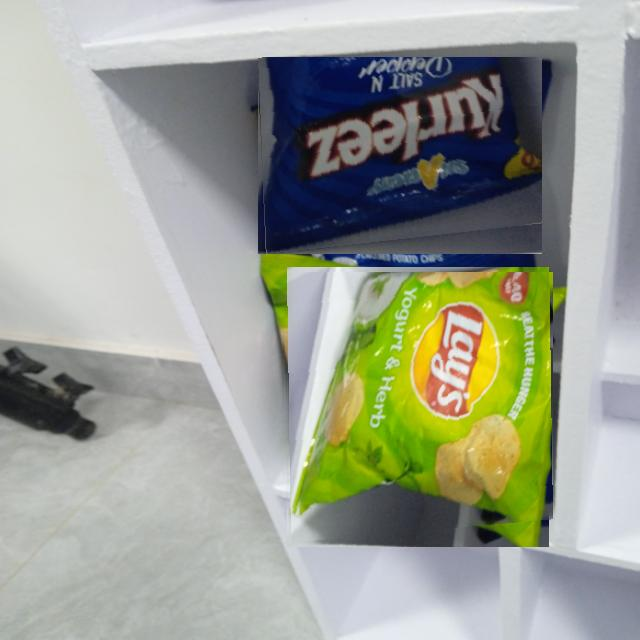Plastic: (282, 272, 553, 543), (257, 57, 542, 254)
